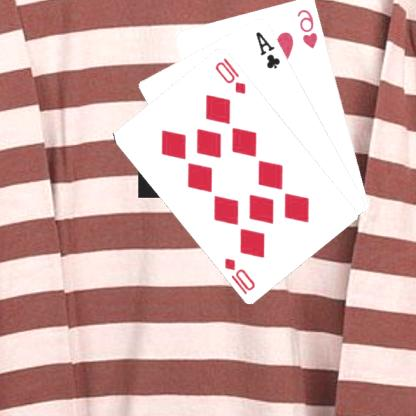10D: (223, 254, 259, 296), (214, 54, 249, 95)
6H: (297, 6, 322, 50)
AC: (254, 28, 284, 70)
